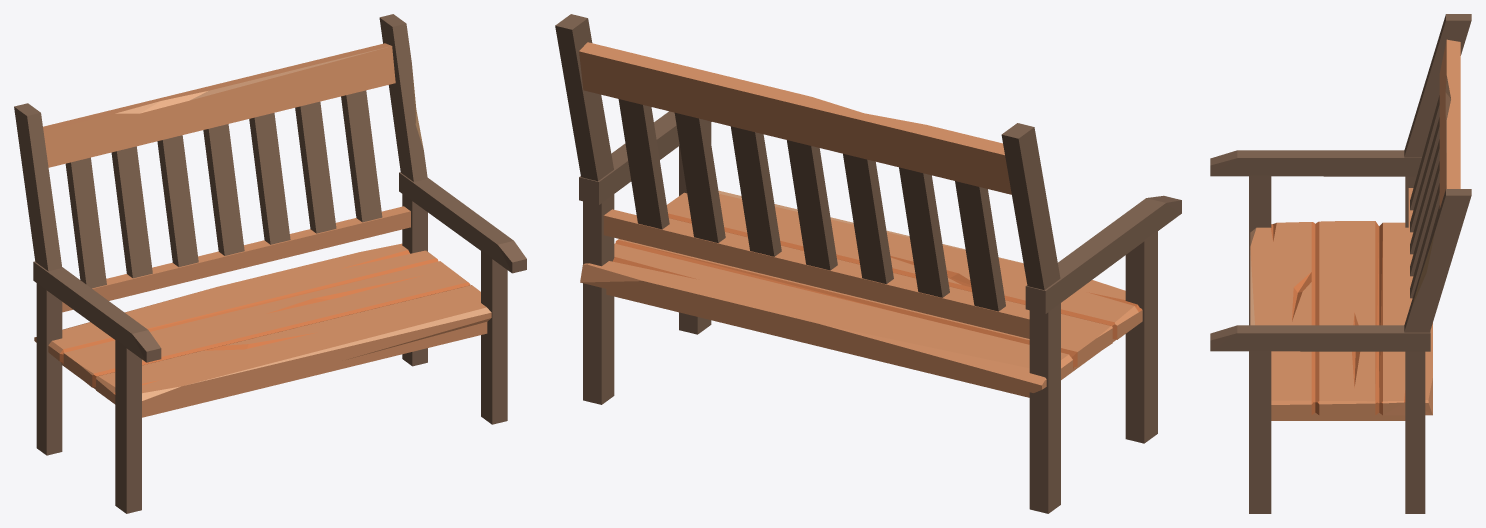
File: Bench.fbx
3 views of the same model, side by side, from view 1: azimuth 30°, elevation 25°; view 2: azimuth 150°, elevation 25°; view 3: azimuth 270°, elevation 25° (orthographic). The views are drawn at different scales.
Visible parts, largest first — view 1: Bench; view 2: Bench; view 3: Bench.
Boxes of the visible parts, <box> form: Bench: <box>14,14,526,513</box>; Bench: <box>555,14,1181,513</box>; Bench: <box>1210,14,1471,513</box>.
Size of the model in its own units: 47.12 by 38.21 by 28.45.
